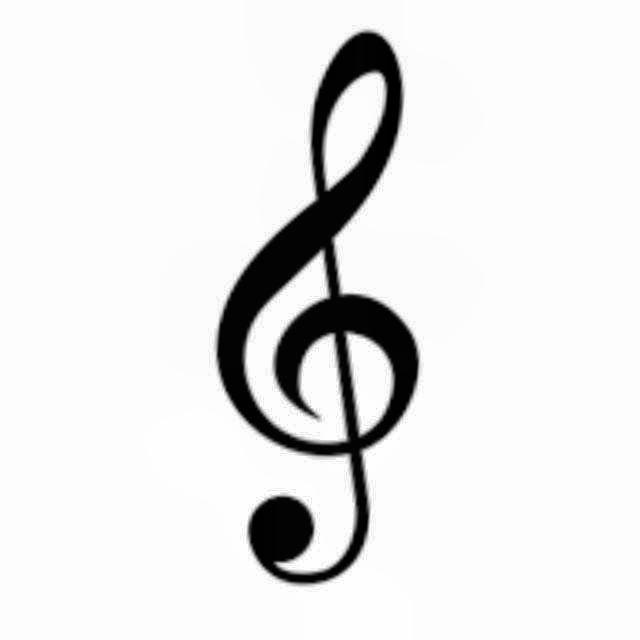Treble-clef: (195, 26, 457, 606)
